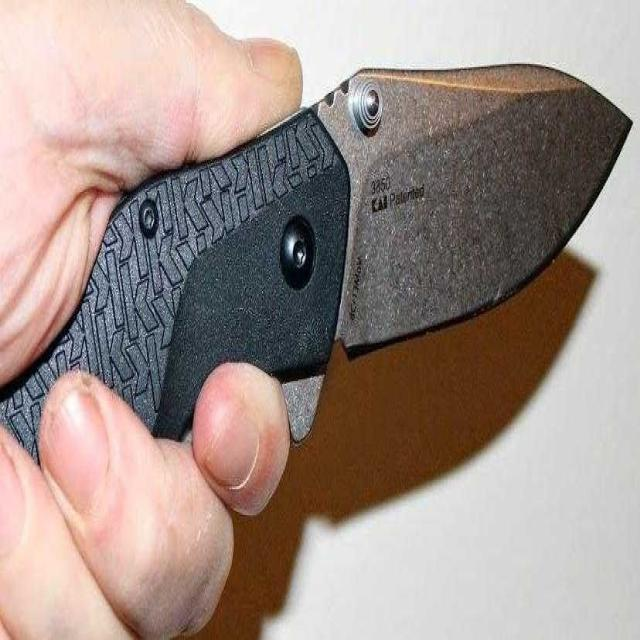Knife: (1, 52, 640, 503)
